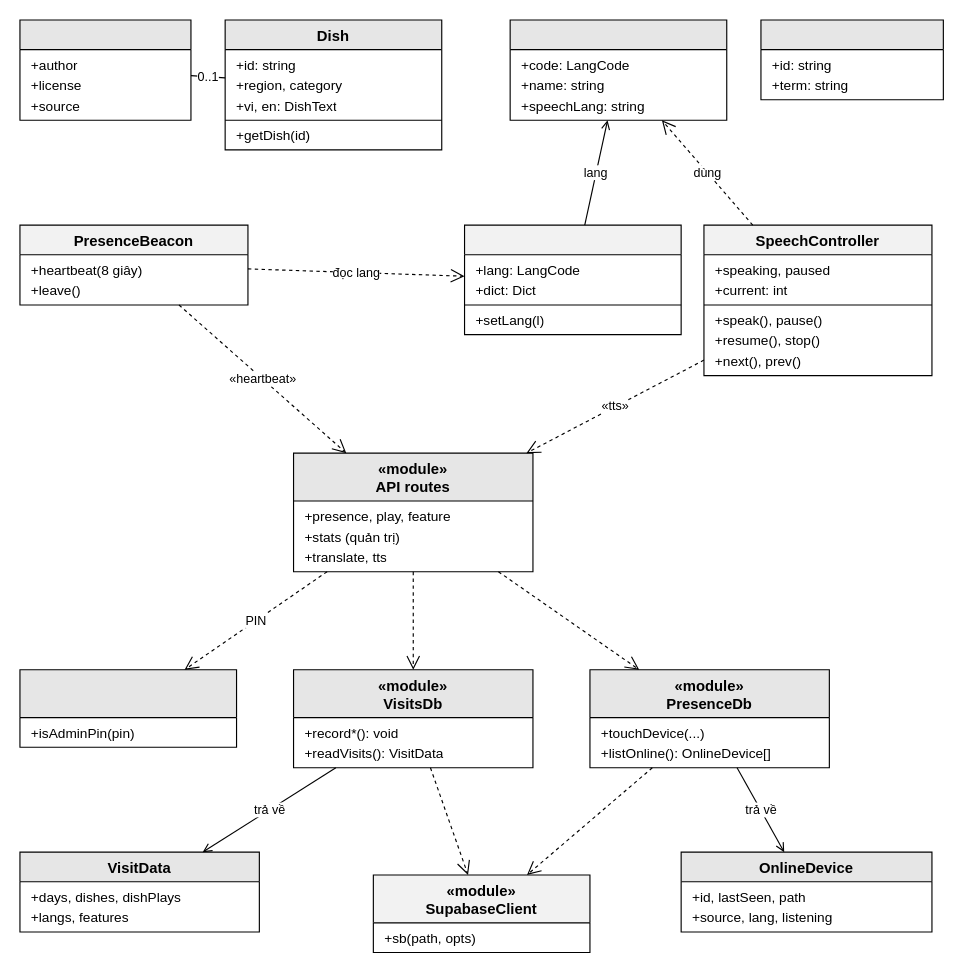
Image size: 963x972. Some labels were removed from this diagram. The box of each missing label's shape, as (x1, y1, x2, y2) in pixels:
AppState: (463, 224, 681, 335)
GlossaryTerm: (760, 19, 943, 100)
Language: (509, 19, 727, 120)
PhotoCredit: (19, 19, 191, 120)
«module» AdminAuth: (19, 669, 237, 747)
